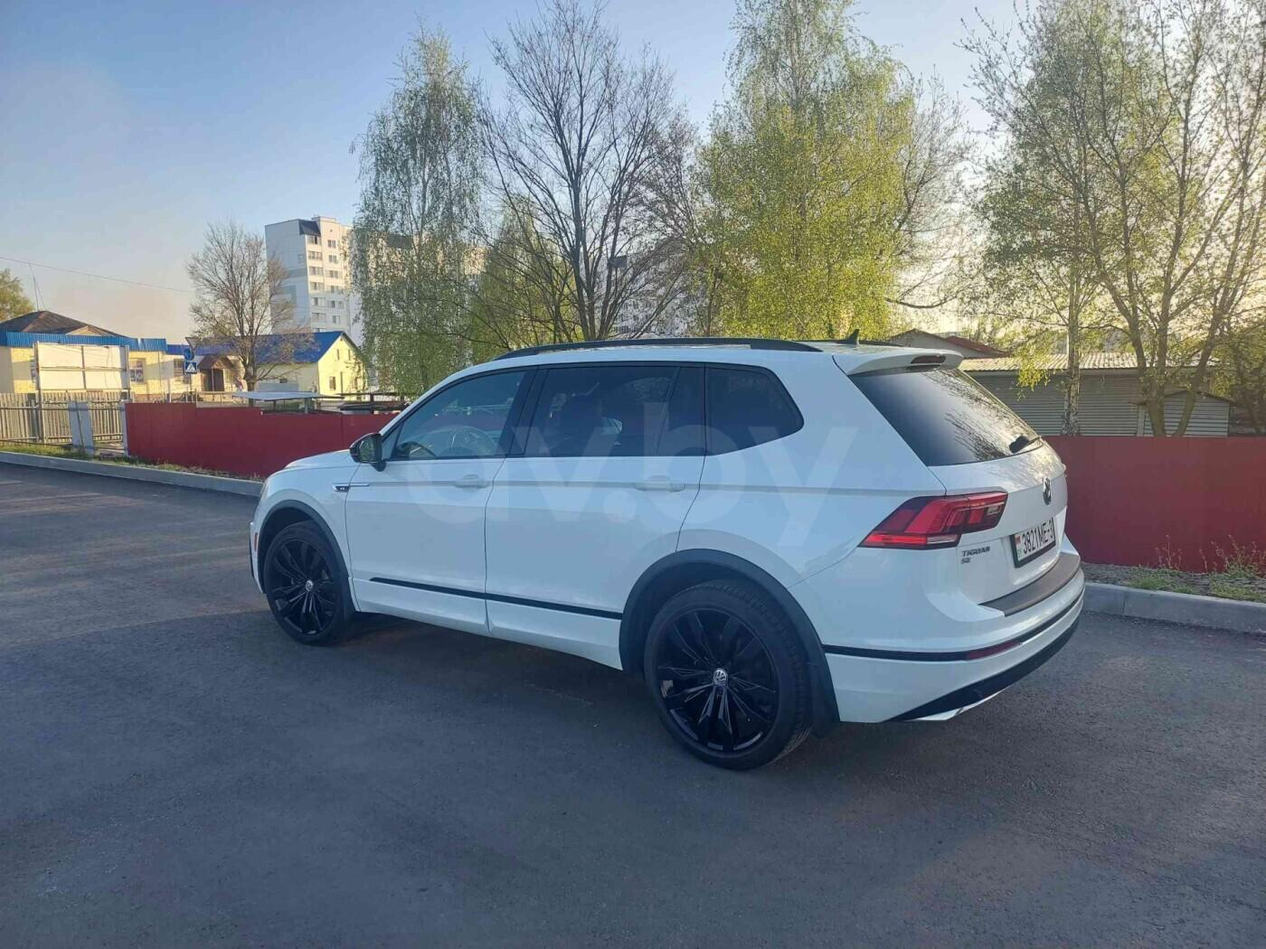Tiguan_2016-2021: (247, 342, 1081, 767)
